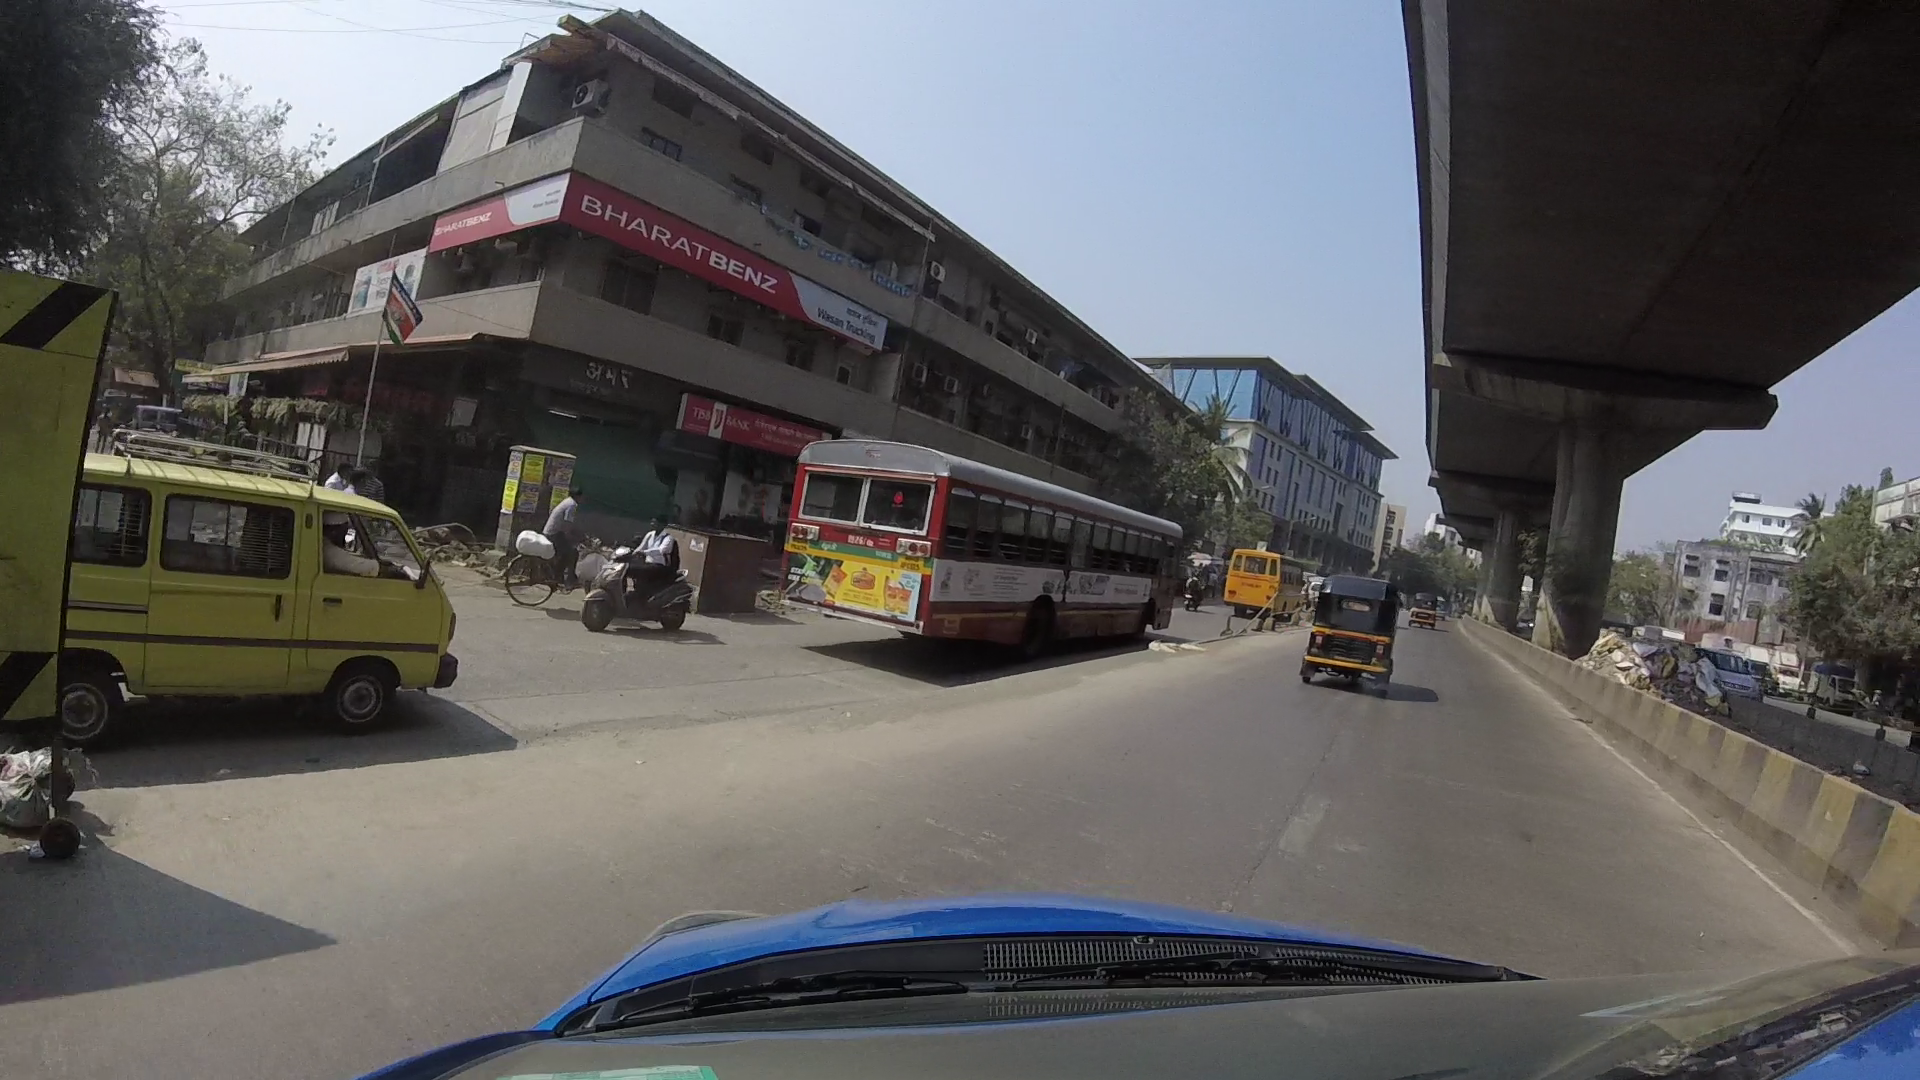bike/scooter: (584, 527, 687, 642)
bus: (793, 427, 1187, 659)
car: (61, 448, 446, 733)
rickshaw: (1311, 578, 1402, 686), (1408, 587, 1443, 632)
